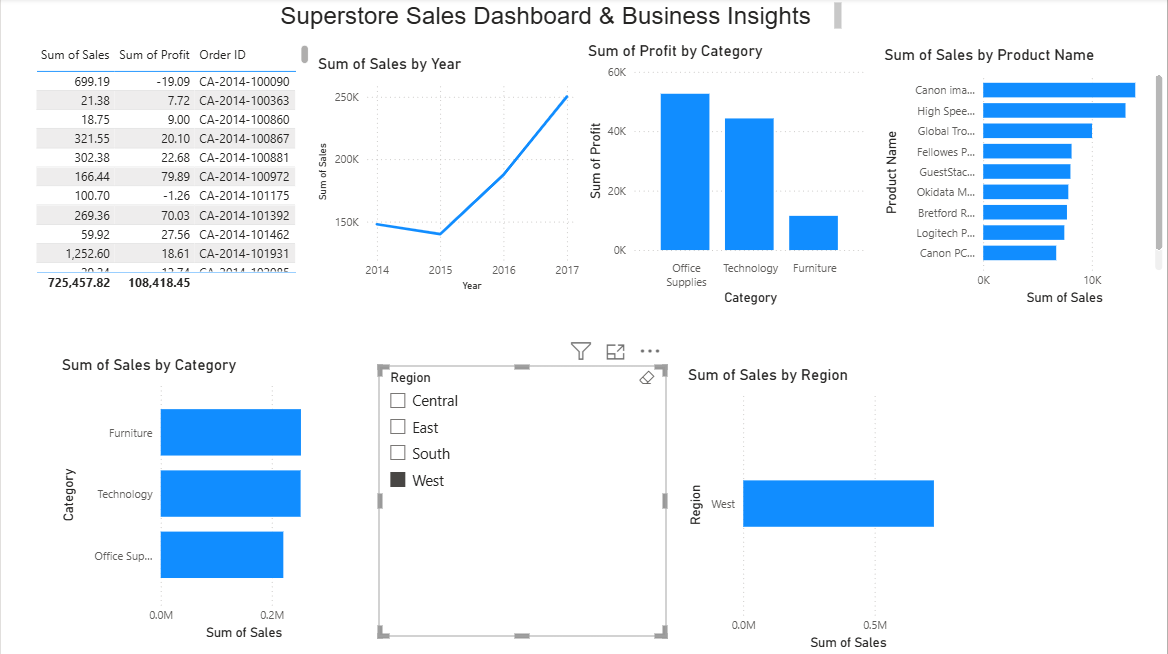

The dashboard page shown, as its layout file describes it:
{"tool":"powerbi","page":{"name":"Page 1","canvas":[1280,720],"ordinal":0},"visuals":[{"type":"barChart","fields":{"Category":["Sample - Superstore.Category"],"Y":["Sum(Sample - Superstore.Sales)"]},"box":[61.7,392.5,315.6,317],"z":0},{"type":"clusteredColumnChart","fields":{"Category":["Sample - Superstore.Category"],"Y":["Sum(Sample - Superstore.Profit)"]},"box":[639.5,48,315.6,293.7],"z":1},{"type":"barChart","fields":{"Category":["Sample - Superstore.Region"],"Y":["Sum(Sample - Superstore.Sales)"]},"box":[749.2,403.4,315.6,317],"z":2},{"type":"lineChart","fields":{"Category":["Sample - Superstore.Order Date.Variation.Date Hierarchy.Year","Sample - Superstore.Order Date.Variation.Date Hierarchy.Quarter","Sample - Superstore.Order Date.Variation.Date Hierarchy.Month","Sample - Superstore.Order Date.Variation.Date Hierarchy.Day"],"Y":["Sum(Sample - Superstore.Sales)"]},"box":[343.1,61.7,296.4,264.8],"z":3},{"type":"barChart","fields":{"Category":["Sample - Superstore.Product Name"],"Y":["Sum(Sample - Superstore.Sales)"]},"box":[964.7,52.1,315.6,289.5],"z":4},{"type":"slicer","fields":{"Values":["Sample - Superstore.Region"]},"box":[414.4,403.4,315.6,297.8],"z":5},{"type":"tableEx","fields":{"Values":["Sum(Sample - Superstore.Sales)","Sum(Sample - Superstore.Profit)","Sample - Superstore.Order ID"]},"box":[32.9,46.7,310.1,279.9],"z":6},{"type":"textbox","box":[301.9,0,625.7,39.8],"z":8}]}

Visuals, with their boxes in screenshot pixels (x1, y1, x2, y2), scaled from the page's 1280x720 canvas onto the 1168x654 screenshot:
barChart - Sample - Superstore.Category x Sum(Sample - Superstore.Sales): select_region(56, 357, 344, 644)
clusteredColumnChart - Sample - Superstore.Category x Sum(Sample - Superstore.Profit): select_region(584, 44, 872, 310)
barChart - Sample - Superstore.Region x Sum(Sample - Superstore.Sales): select_region(684, 366, 972, 653)
lineChart - Sample - Superstore.Order Date.Variation.Date Hierarchy.Year x Sample - Superstore.Order Date.Variation.Date Hierarchy.Quarter: select_region(313, 56, 584, 297)
barChart - Sample - Superstore.Product Name x Sum(Sample - Superstore.Sales): select_region(880, 47, 1167, 310)
slicer - Sample - Superstore.Region: select_region(378, 366, 666, 637)
tableEx - Sum(Sample - Superstore.Sales) x Sum(Sample - Superstore.Profit): select_region(30, 42, 313, 297)
textbox: select_region(275, 0, 846, 36)
